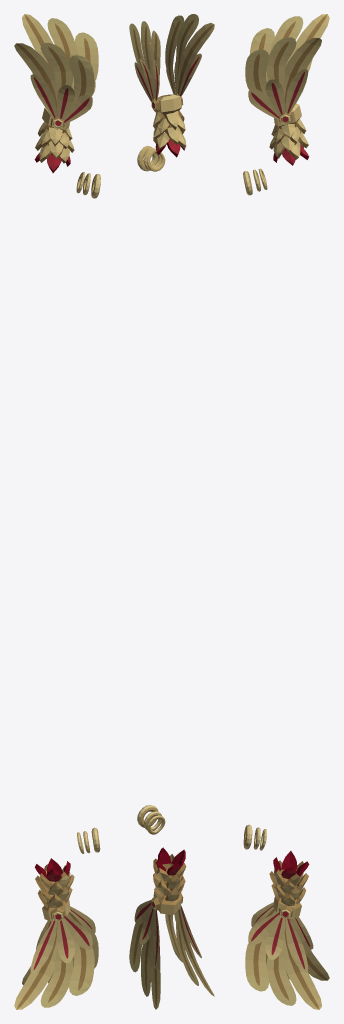
Rendered from largeBowGreekTip.glb.
3 views of the same model, side by side, from view 1: azimuth 90°, elevation 25°; view 2: azimuth 210°, elevation 25°; view 3: azimuth 270°, elevation 25° (orthographic).
Parts seen in each view (by area): view 1: largeBowGreekTip; view 2: largeBowGreekTip; view 3: largeBowGreekTip.
Boxes of the visible parts, x1=… form: largeBowGreekTip: x1=14, y1=14, x2=100, y2=1009; largeBowGreekTip: x1=129, y1=14, x2=214, y2=1009; largeBowGreekTip: x1=243, y1=14, x2=329, y2=1009.
Bounding box in the file's own units: 0.1522 × 2.6 × 0.2101.
